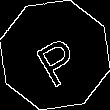P_NW: (27, 24, 83, 86)
